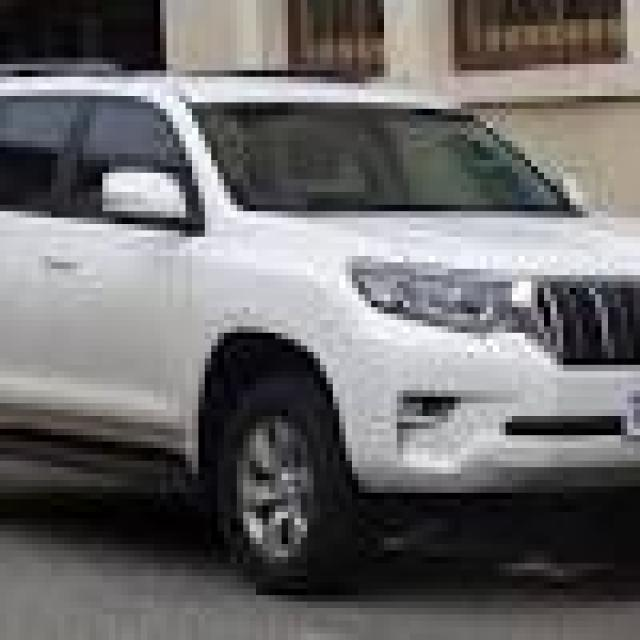light_vehicle: (0, 39, 634, 582)
